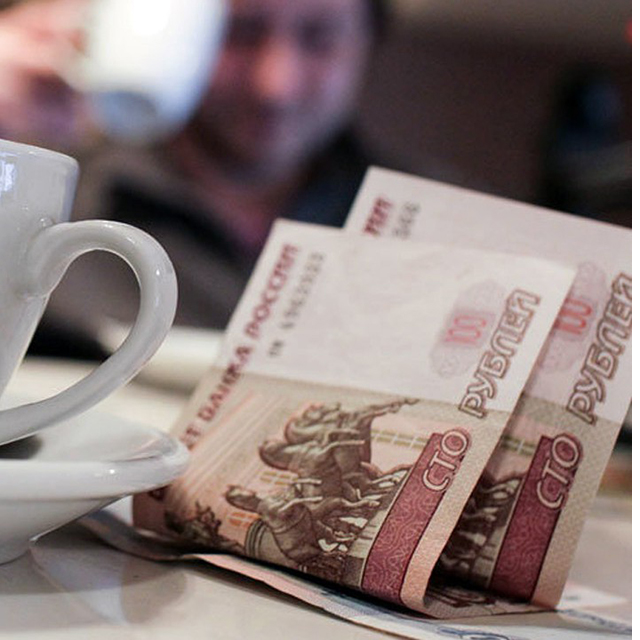banknotes: (143, 167, 632, 640)
